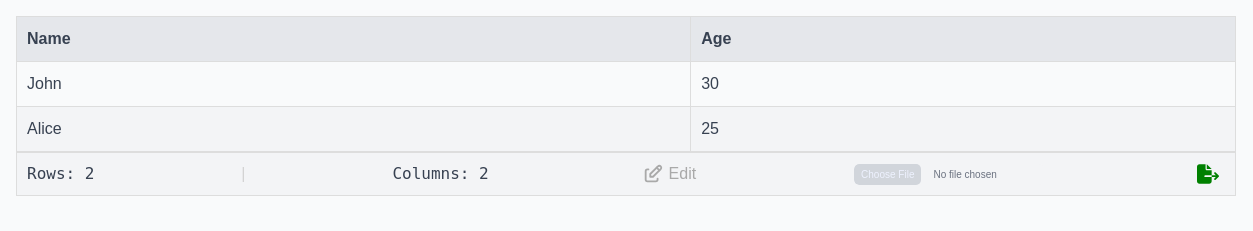
Test: DataGrid Integration Test › toggles editing mode when edit button is clicked
# Click edit button
Click the button with test id "edit-btn": (671, 174) left=636, top=157, right=707, bottom=191
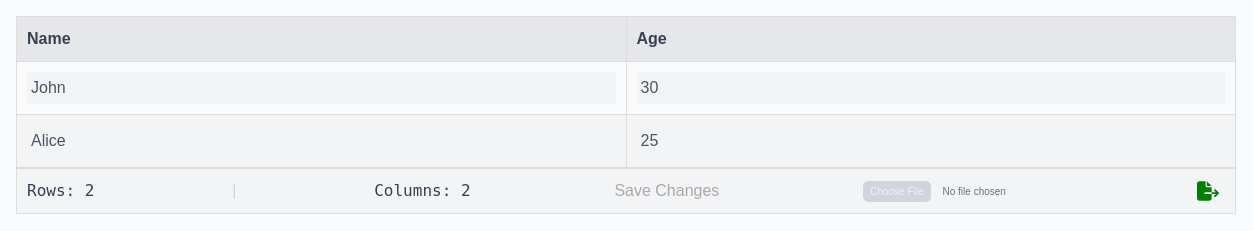
Result: the 1st field with test id "cell-input" is shown at left=27, top=72, right=616, bottom=104
# Click edit button again
Click the button with test id "edit-btn": (667, 191) left=608, top=173, right=725, bottom=209
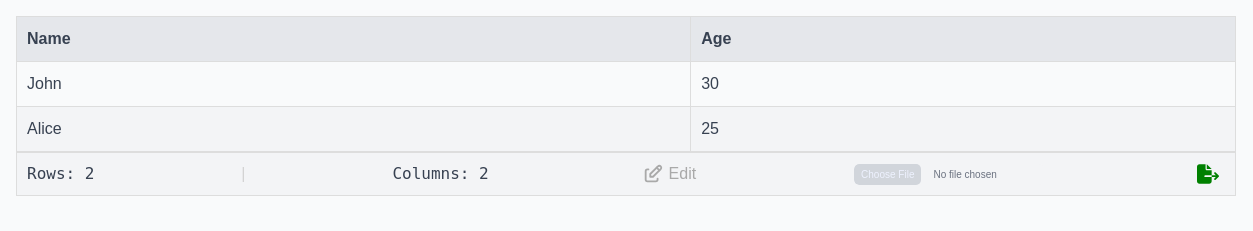
Result: the field with test id "cell-input" is gone
